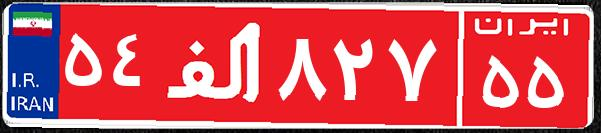2: (330, 28, 385, 110)
4: (110, 28, 158, 105)
5: (57, 26, 110, 107), (475, 38, 525, 113), (525, 38, 570, 115)
7: (385, 28, 445, 110)
8: (273, 28, 330, 110)
الف: (158, 15, 273, 115)
